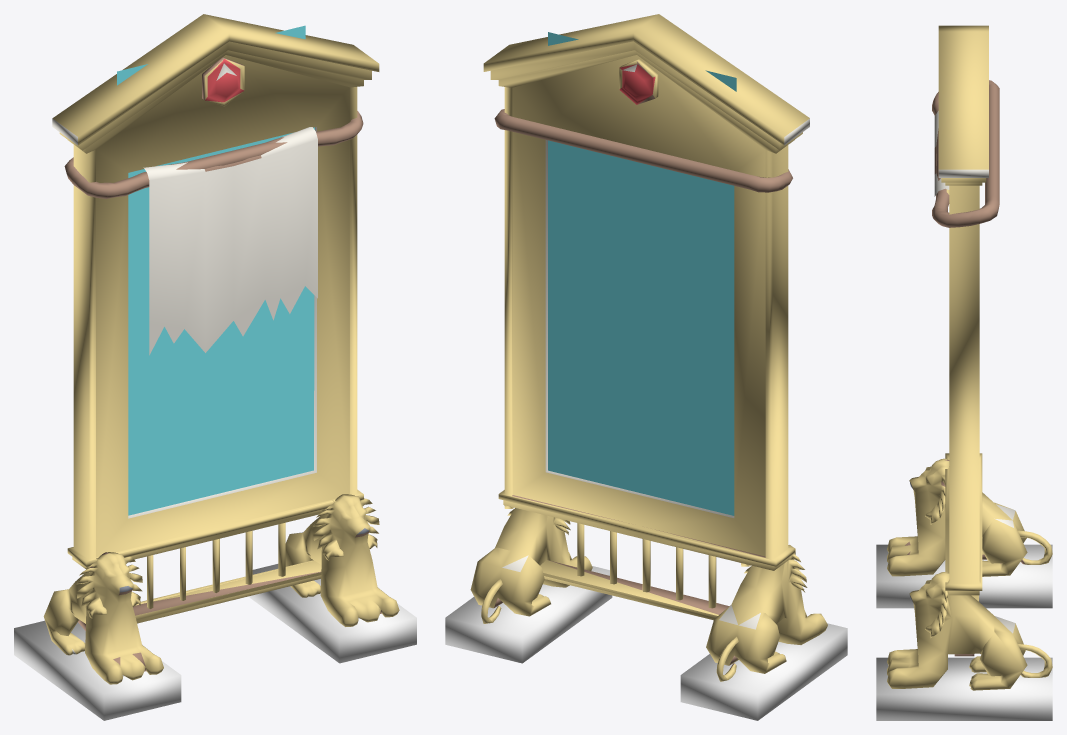
File: mirror_half.glb
3 views of the same model, side by side, from view 1: azimuth 30°, elevation 25°; view 2: azimuth 150°, elevation 25°; view 3: azimuth 270°, elevation 25° (orthographic).
Parts seen in each view (by area): view 1: tripo_node_975747bc-5d72-472b-bf5f-61833d66be52, glass_f; view 2: tripo_node_975747bc-5d72-472b-bf5f-61833d66be52, glass_b; view 3: tripo_node_975747bc-5d72-472b-bf5f-61833d66be52.
Boxes of the visible parts, x1,y1,x2,y2 form: tripo_node_975747bc-5d72-472b-bf5f-61833d66be52: (14, 14, 416, 720); glass_f: (128, 127, 314, 515); tripo_node_975747bc-5d72-472b-bf5f-61833d66be52: (445, 14, 847, 720); glass_b: (548, 32, 736, 515); tripo_node_975747bc-5d72-472b-bf5f-61833d66be52: (876, 25, 1052, 720).
Bounding box in the file's own units: 0.5215 × 0.998 × 0.2598.
